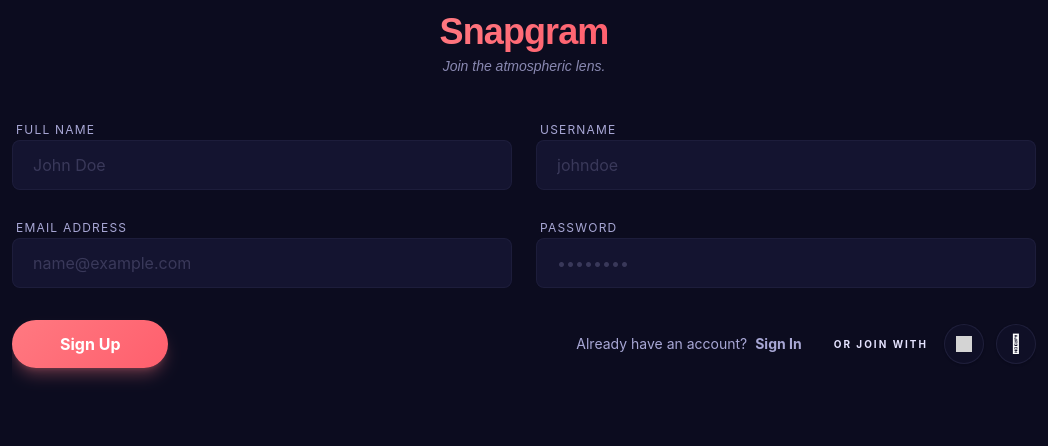
Test: SignUpForm › should display validation errors for required fields
The width and height of the screenshot is (1048, 446).
Click the button "Sign Up" at (90, 344), box [12, 320, 168, 368]
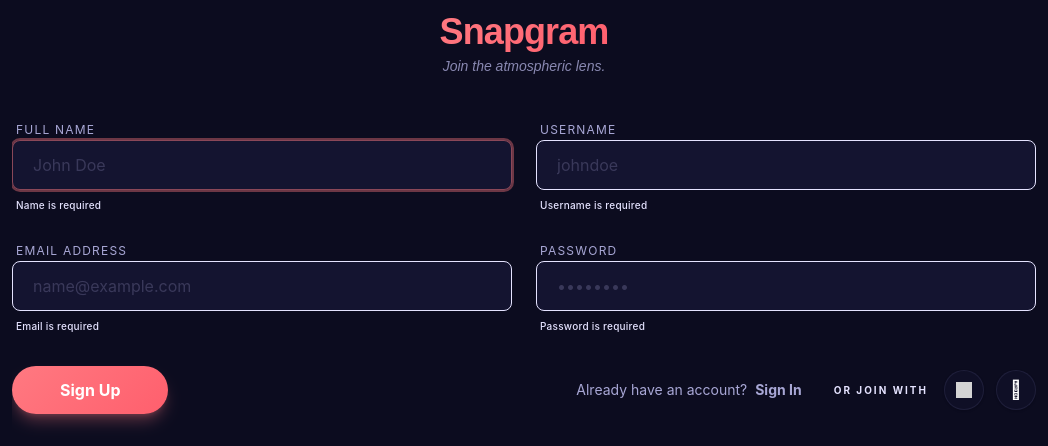
Expected: the text "Name is required" is shown, [16, 199, 101, 211]
Expected: the text "Username is required" is shown, [540, 199, 647, 211]
Expected: the text "Email is required" is shown, [16, 320, 99, 332]
